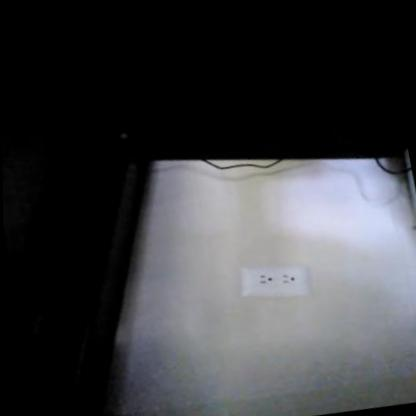OUTLET: (238, 256, 309, 301)
